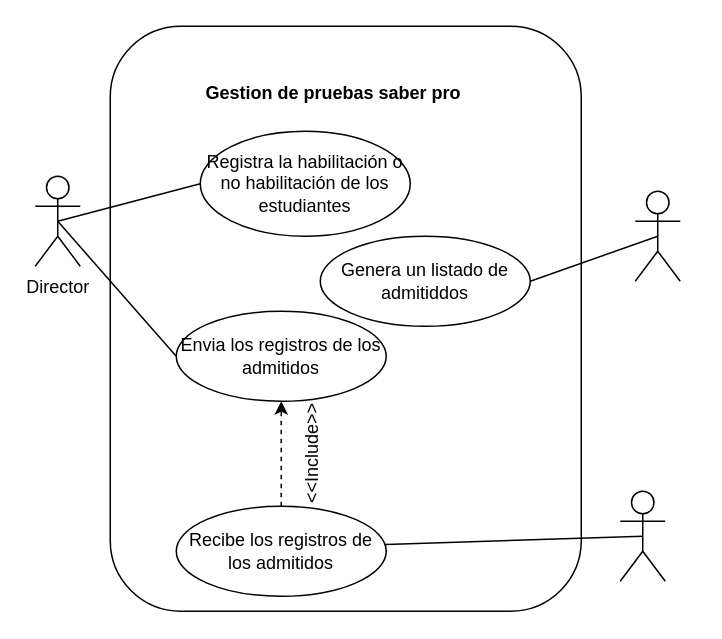
Some shapes in this 722 by 639 pixel diagram are drawn without their labels. Each missing label, with the centre of its shape:
"Coordinación" goes at pixel 642 535.
"Sistema" goes at pixel 657 235.
